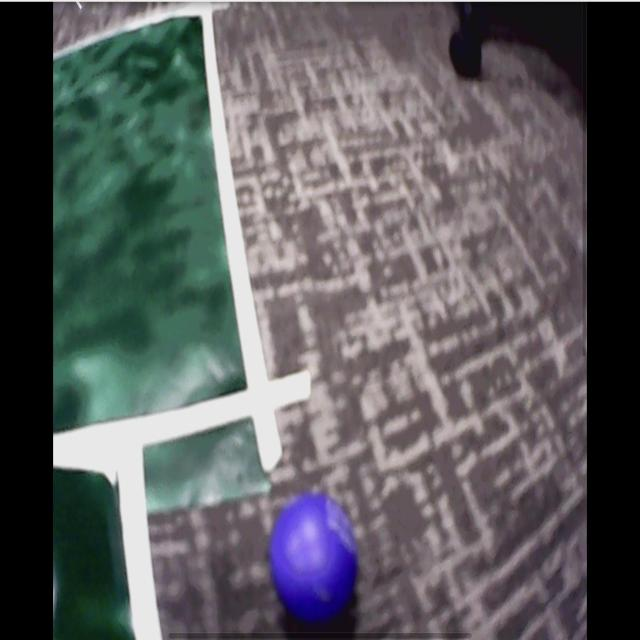ball: (272, 495, 358, 625)
